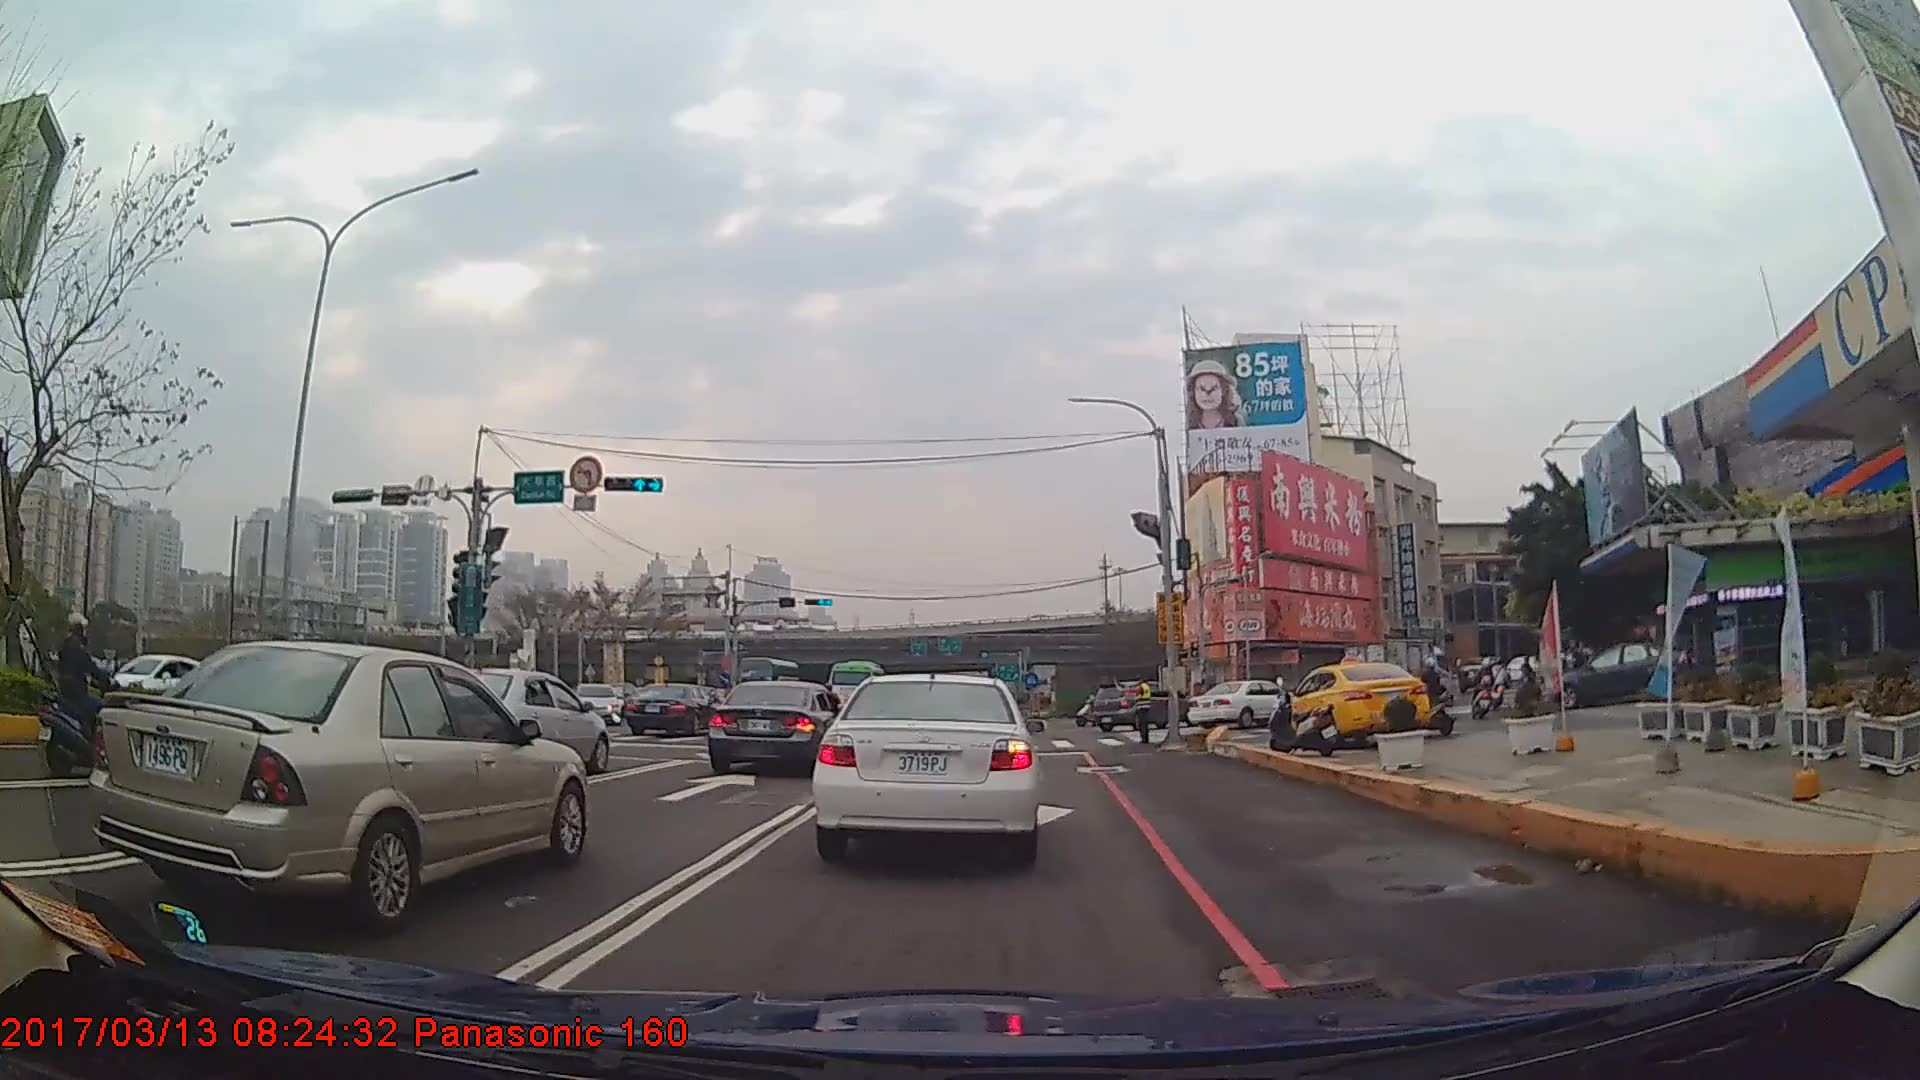pedestrian: (1115, 674, 1155, 747)
rider: (37, 614, 135, 778), (1413, 661, 1455, 740), (1472, 658, 1496, 720)
vehicle: (94, 639, 589, 926), (807, 672, 1040, 869), (420, 668, 609, 776), (704, 677, 847, 778), (1280, 659, 1431, 749), (1549, 641, 1690, 708), (1338, 639, 1455, 710), (102, 651, 213, 709), (1091, 679, 1202, 731), (1187, 680, 1297, 730), (625, 684, 719, 738), (827, 657, 888, 714)
